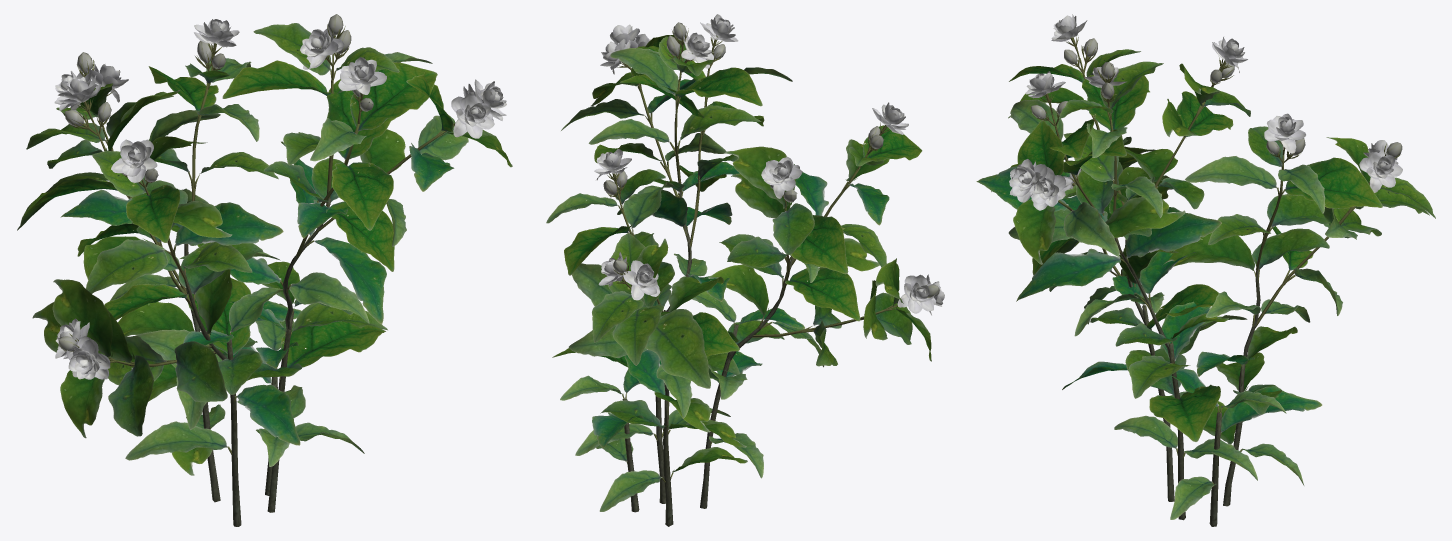
3 renders of one model, left to right at view 1: azimuth 30°, elevation 25°; view 2: azimuth 150°, elevation 25°; view 3: azimuth 270°, elevation 25°, orthographic. The views are drawn at different scales.
Parts seen in each view (by area): view 1: QH-茉莉; view 2: QH-茉莉; view 3: QH-茉莉.
Boxes of the visible parts, x1,y1,x2,y2 form: QH-茉莉: (17, 14, 512, 526); QH-茉莉: (546, 14, 944, 526); QH-茉莉: (976, 14, 1435, 526).
Bounding box in the file's own units: 0.3751 × 0.39 × 0.4337.
